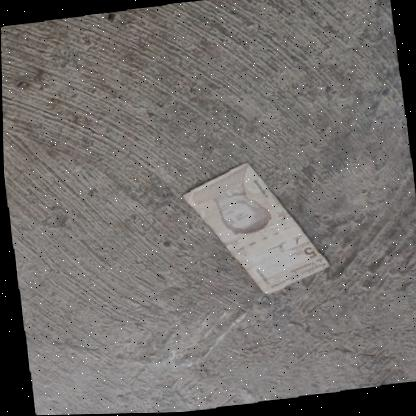five-front-vef: (177, 155, 332, 304)
